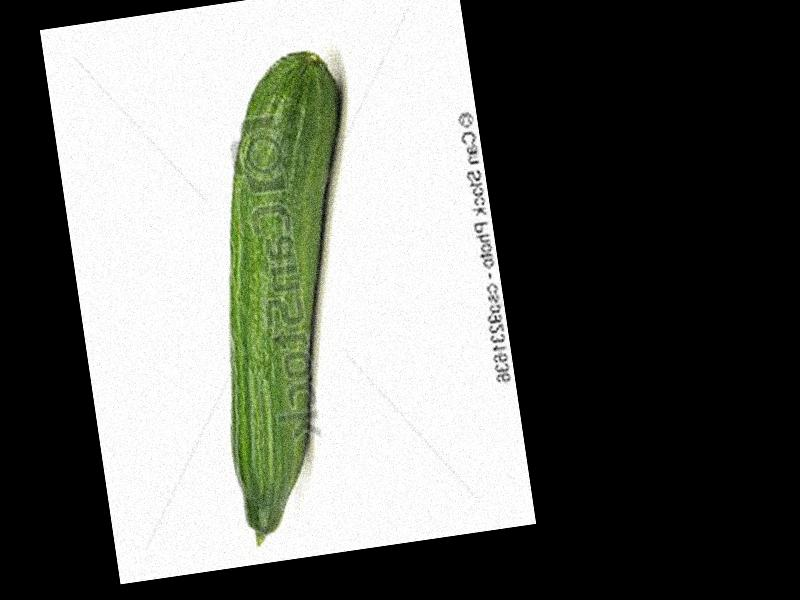Cucumber: (179, 50, 401, 546)
